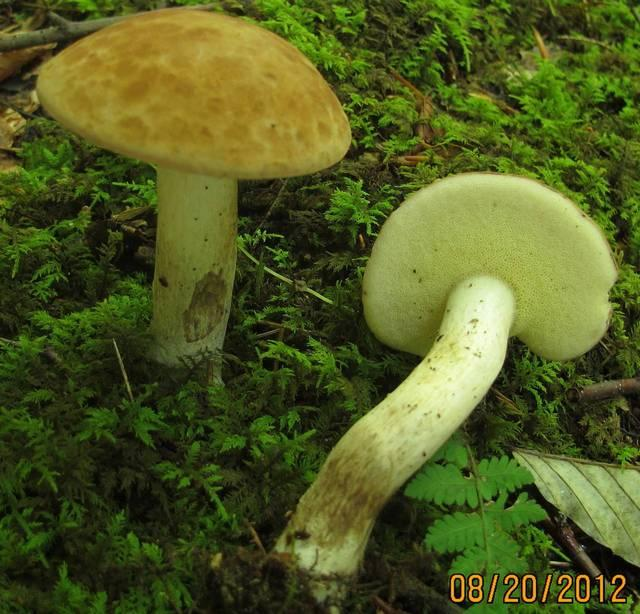edible_mushroom: (270, 169, 618, 601), (34, 6, 352, 387)
